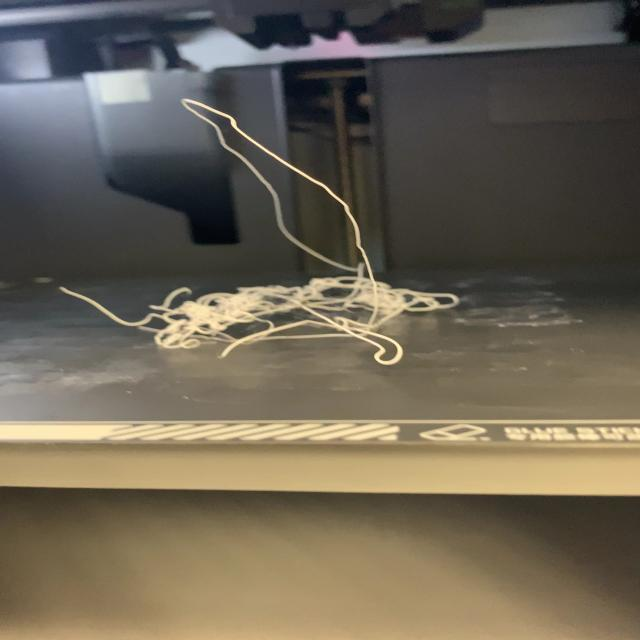spaghetti: (56, 96, 463, 368)
